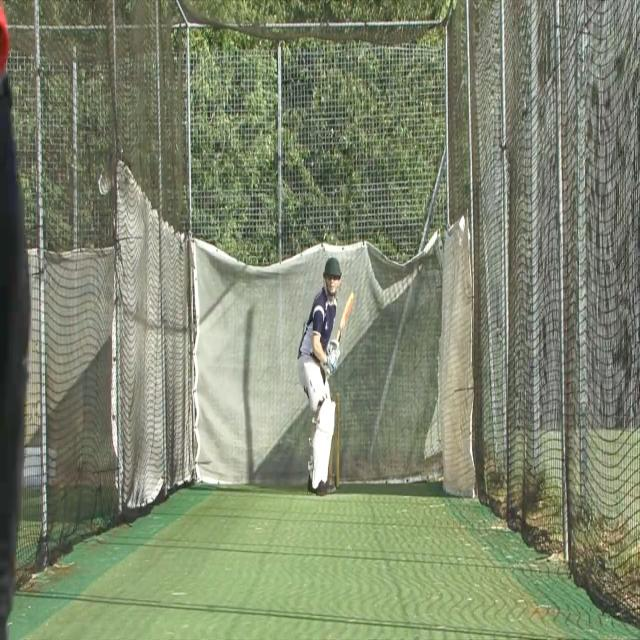batsman: (296, 253, 355, 498)
